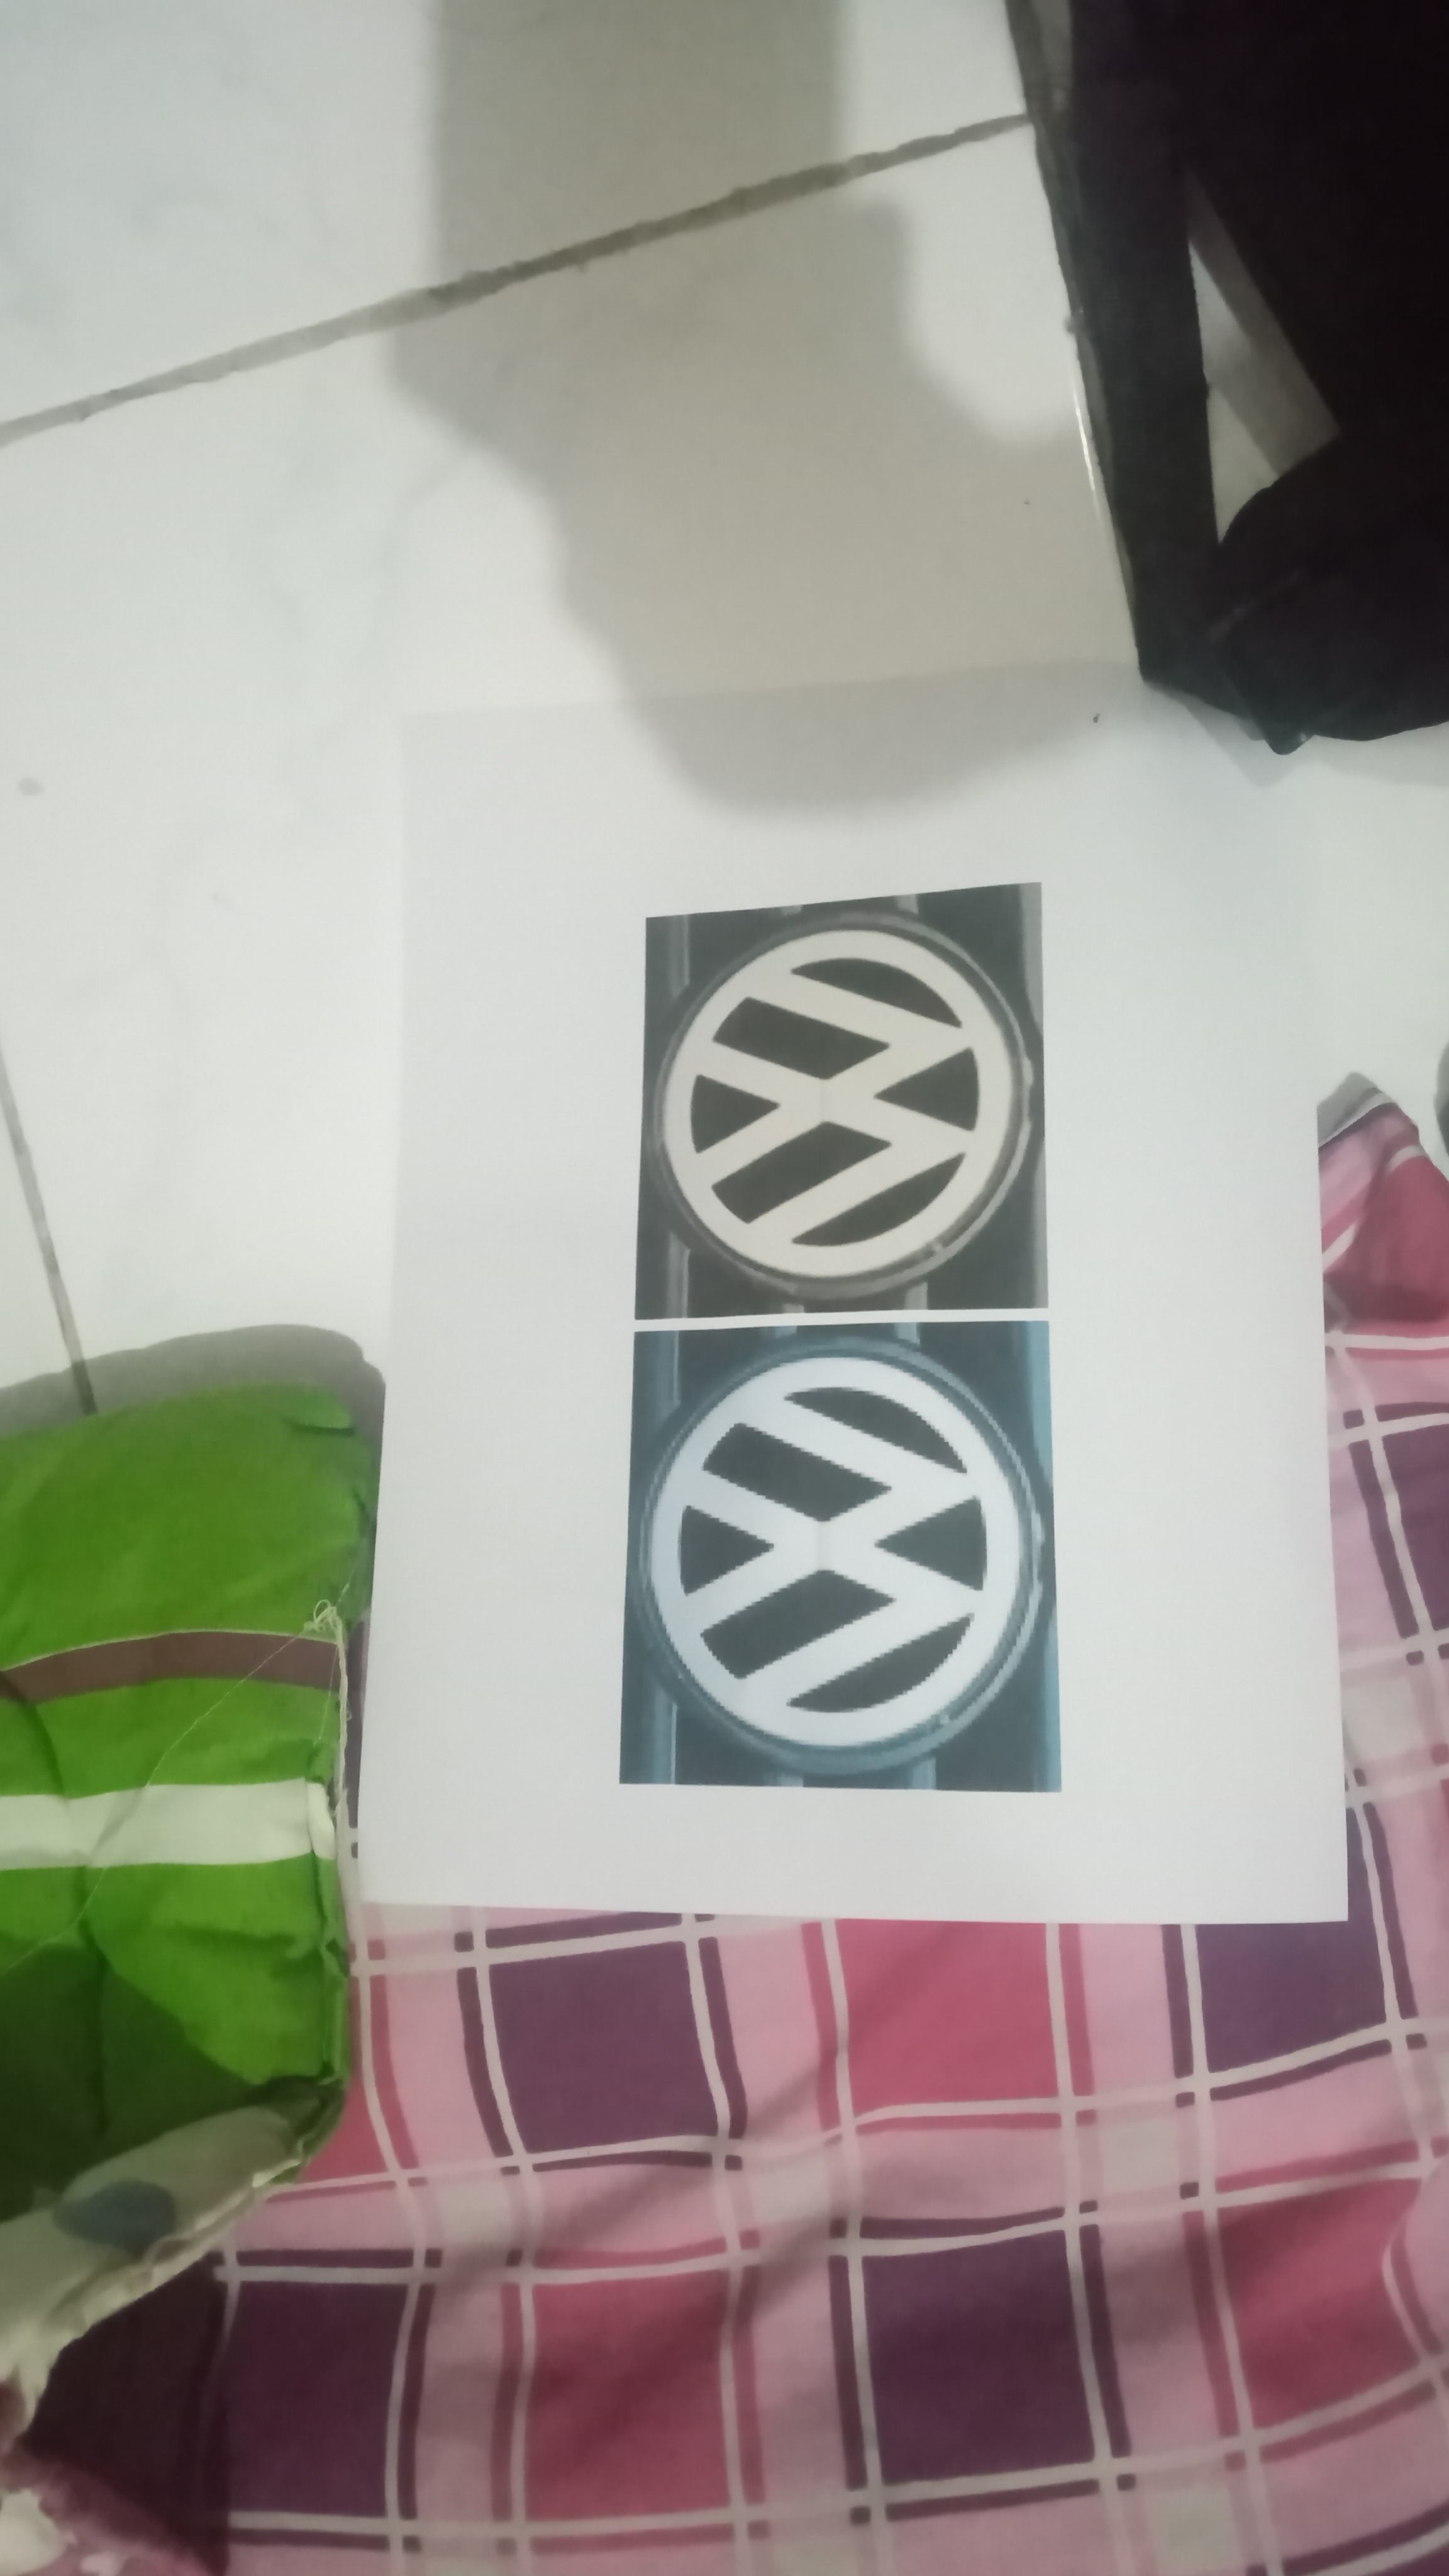Volkswagen: (642, 1357, 1053, 1773), (646, 925, 1035, 1302)
